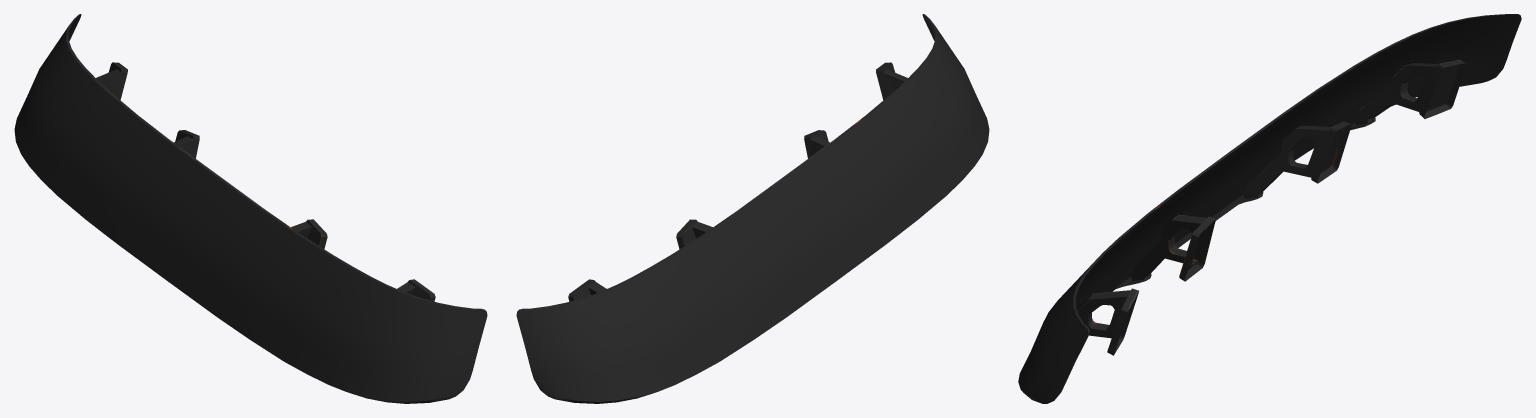
File: Cabin_Sun_Visior.glb
The picture shows the model from 3 angles, left to right: view 1: azimuth 30°, elevation 25°; view 2: azimuth 150°, elevation 25°; view 3: azimuth 330°, elevation 25°; orthographic projection. The views are drawn at different scales.
Parts seen in each view (by area): view 1: Cabin:Sun_Visior; view 2: Cabin:Sun_Visior; view 3: Cabin:Sun_Visior.
Part boxes in pixels (bbox=[...]): Cabin:Sun_Visior: bbox=[14, 14, 487, 403]; Cabin:Sun_Visior: bbox=[516, 14, 989, 403]; Cabin:Sun_Visior: bbox=[1018, 14, 1521, 403].
Bounding box in the file's own units: 0.3551 × 0.2741 × 2.16.
1 material, 1 textured.
